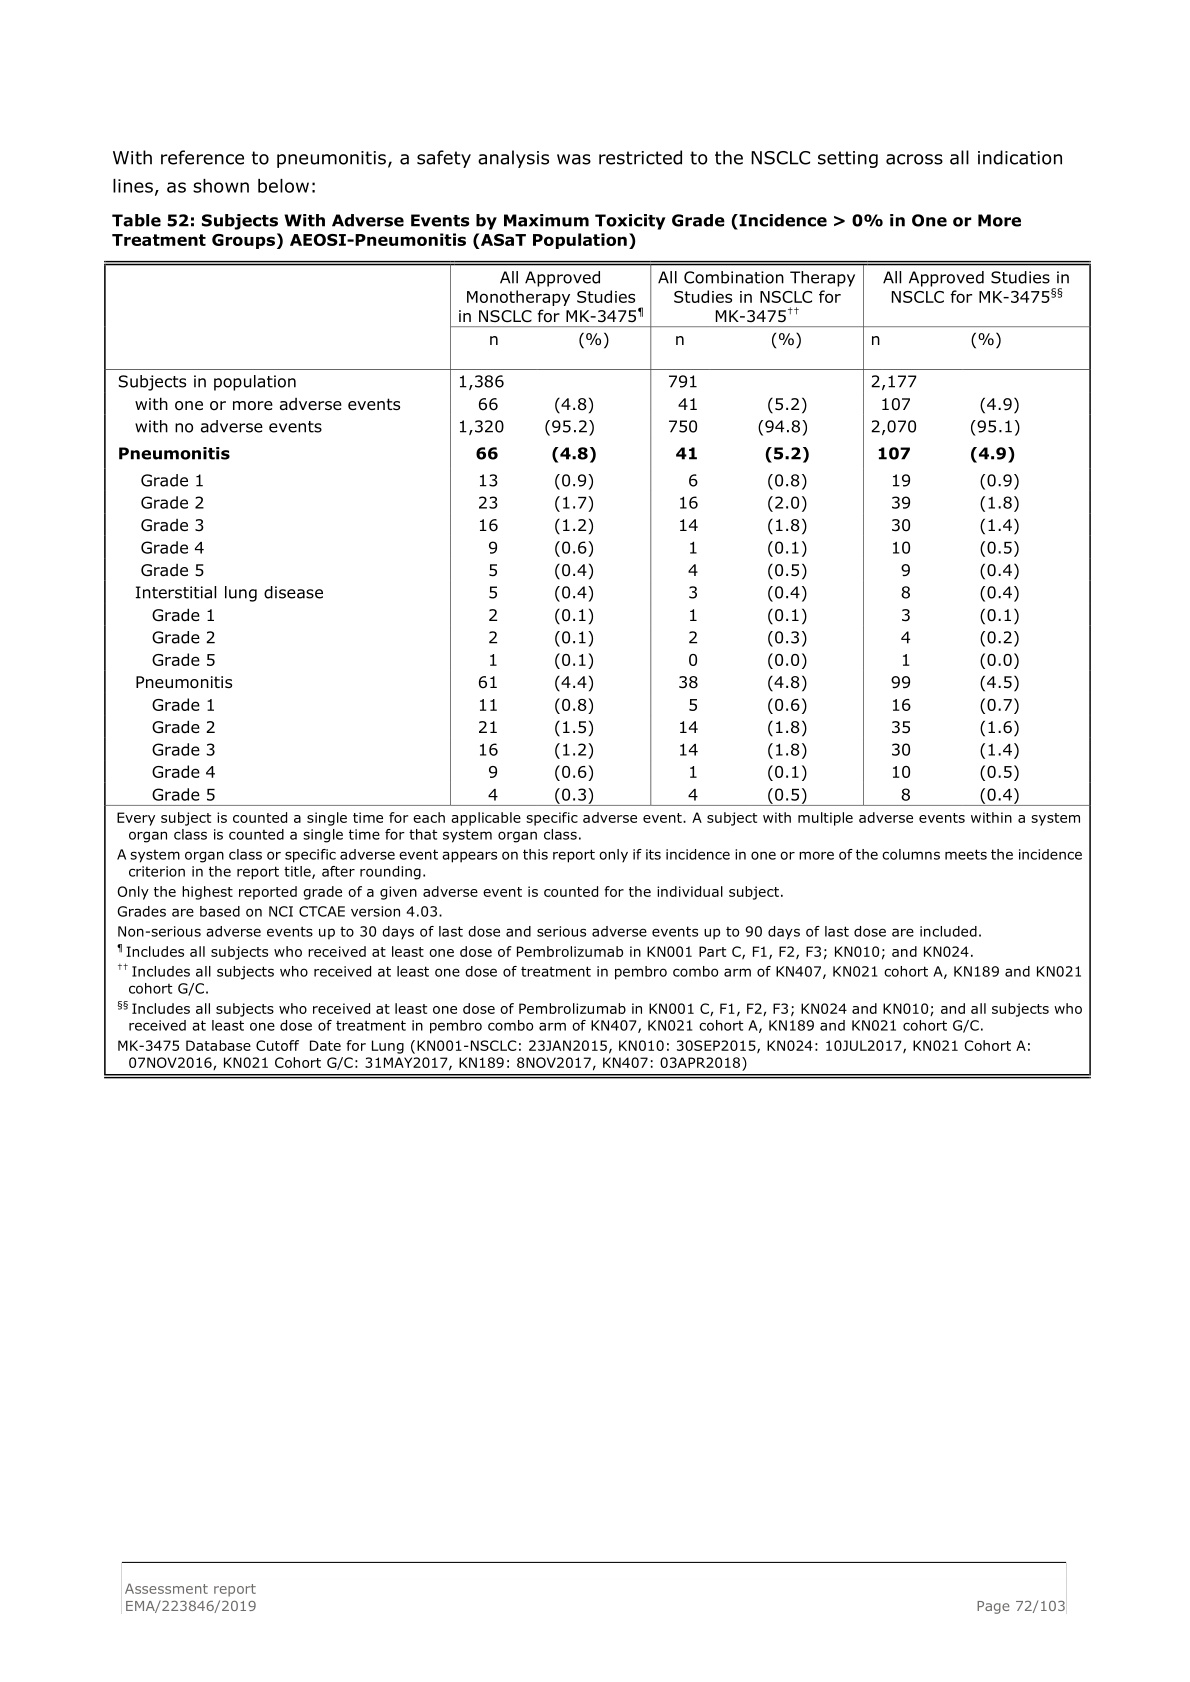partial_lined_merged_cells: (102, 261, 1093, 1081)
